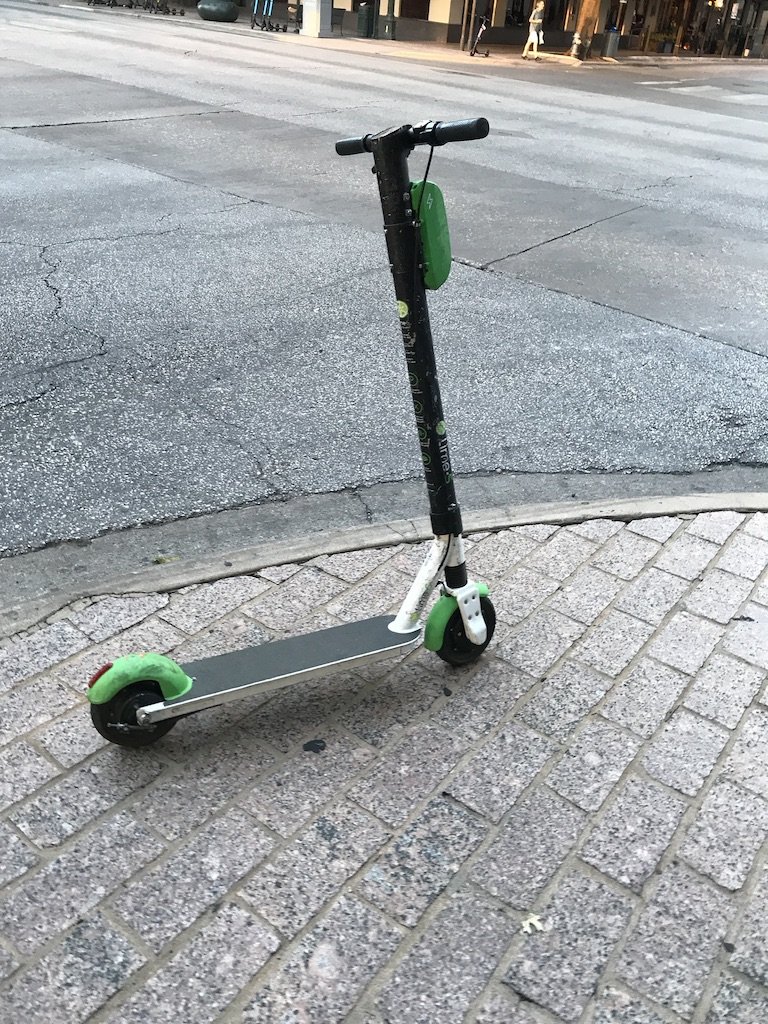scooter: (85, 116, 502, 750)
